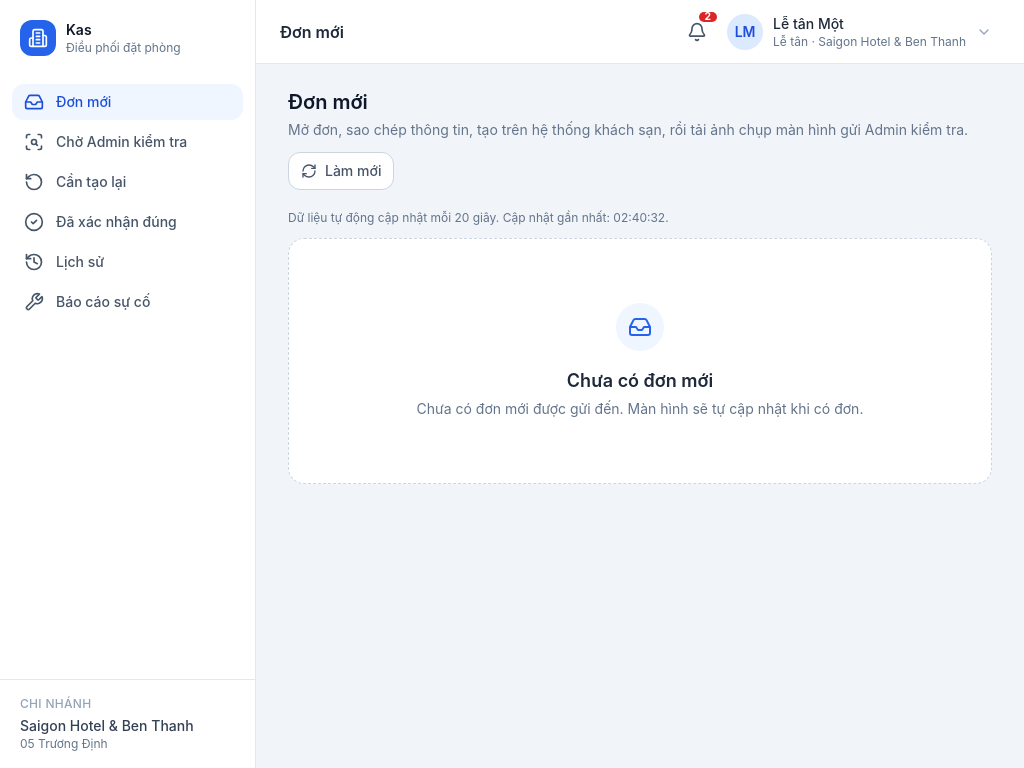
Test: NotificationBell — content and states › shows notification content and highlights the last-minute one
What coordinates should you click on to do the following:
click the button named "Thông báo"
I would click on:
 (697, 32)
Its box is [679, 14, 715, 50].
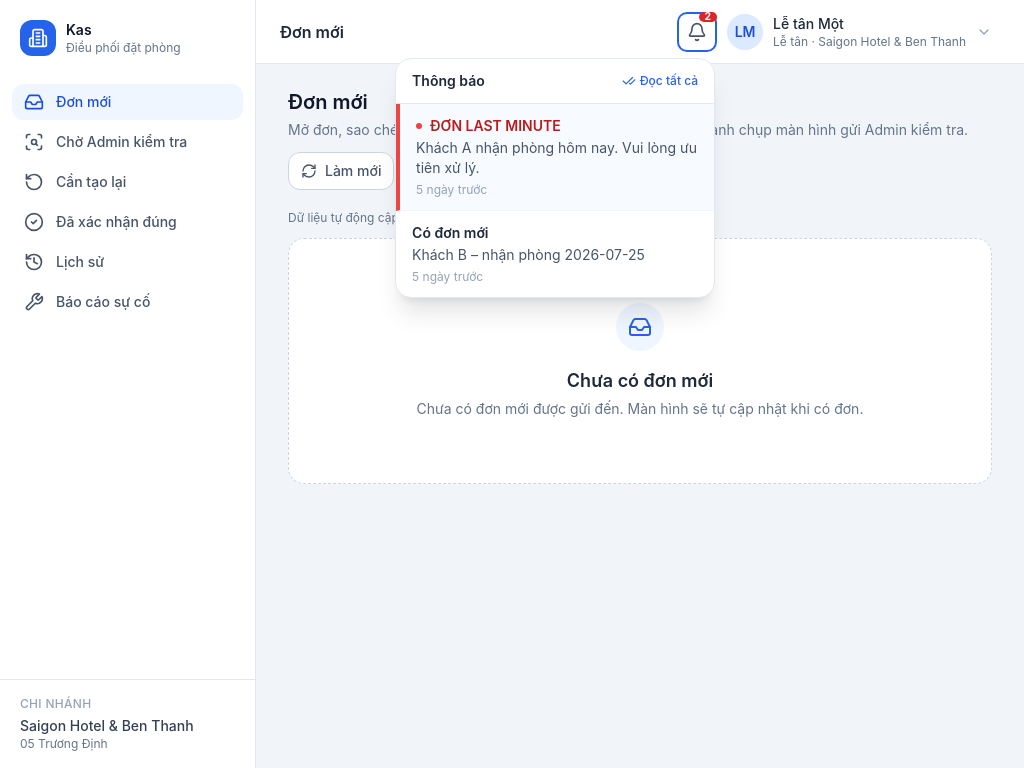
Expected: the text "ĐƠN LAST MINUTE" is shown, [416, 116, 561, 134]
Expected: the text "Khách A nhận phòng hôm nay. Vui lòng ưu tiên xử lý." is shown, [416, 138, 698, 178]
Expected: the text "Có đơn mới" is shown, [412, 224, 489, 240]
